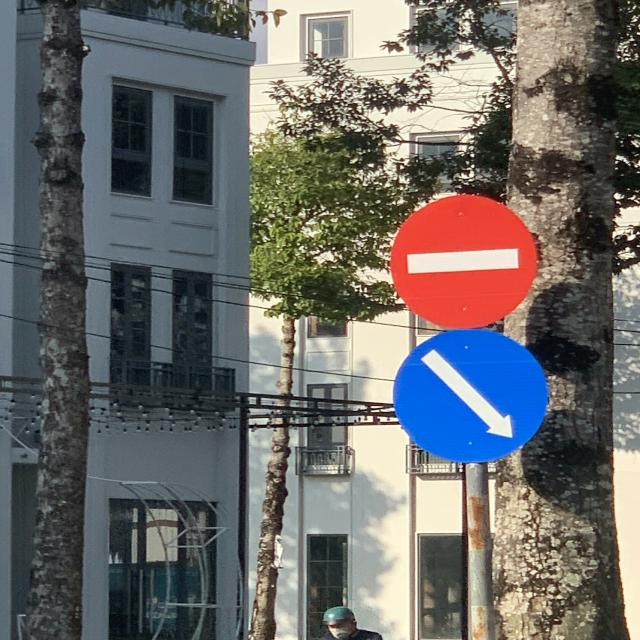Cam_Di_Nguoc_Chieu: (389, 196, 537, 330)
Chi_Huong_Di_Phai: (393, 329, 549, 465)
